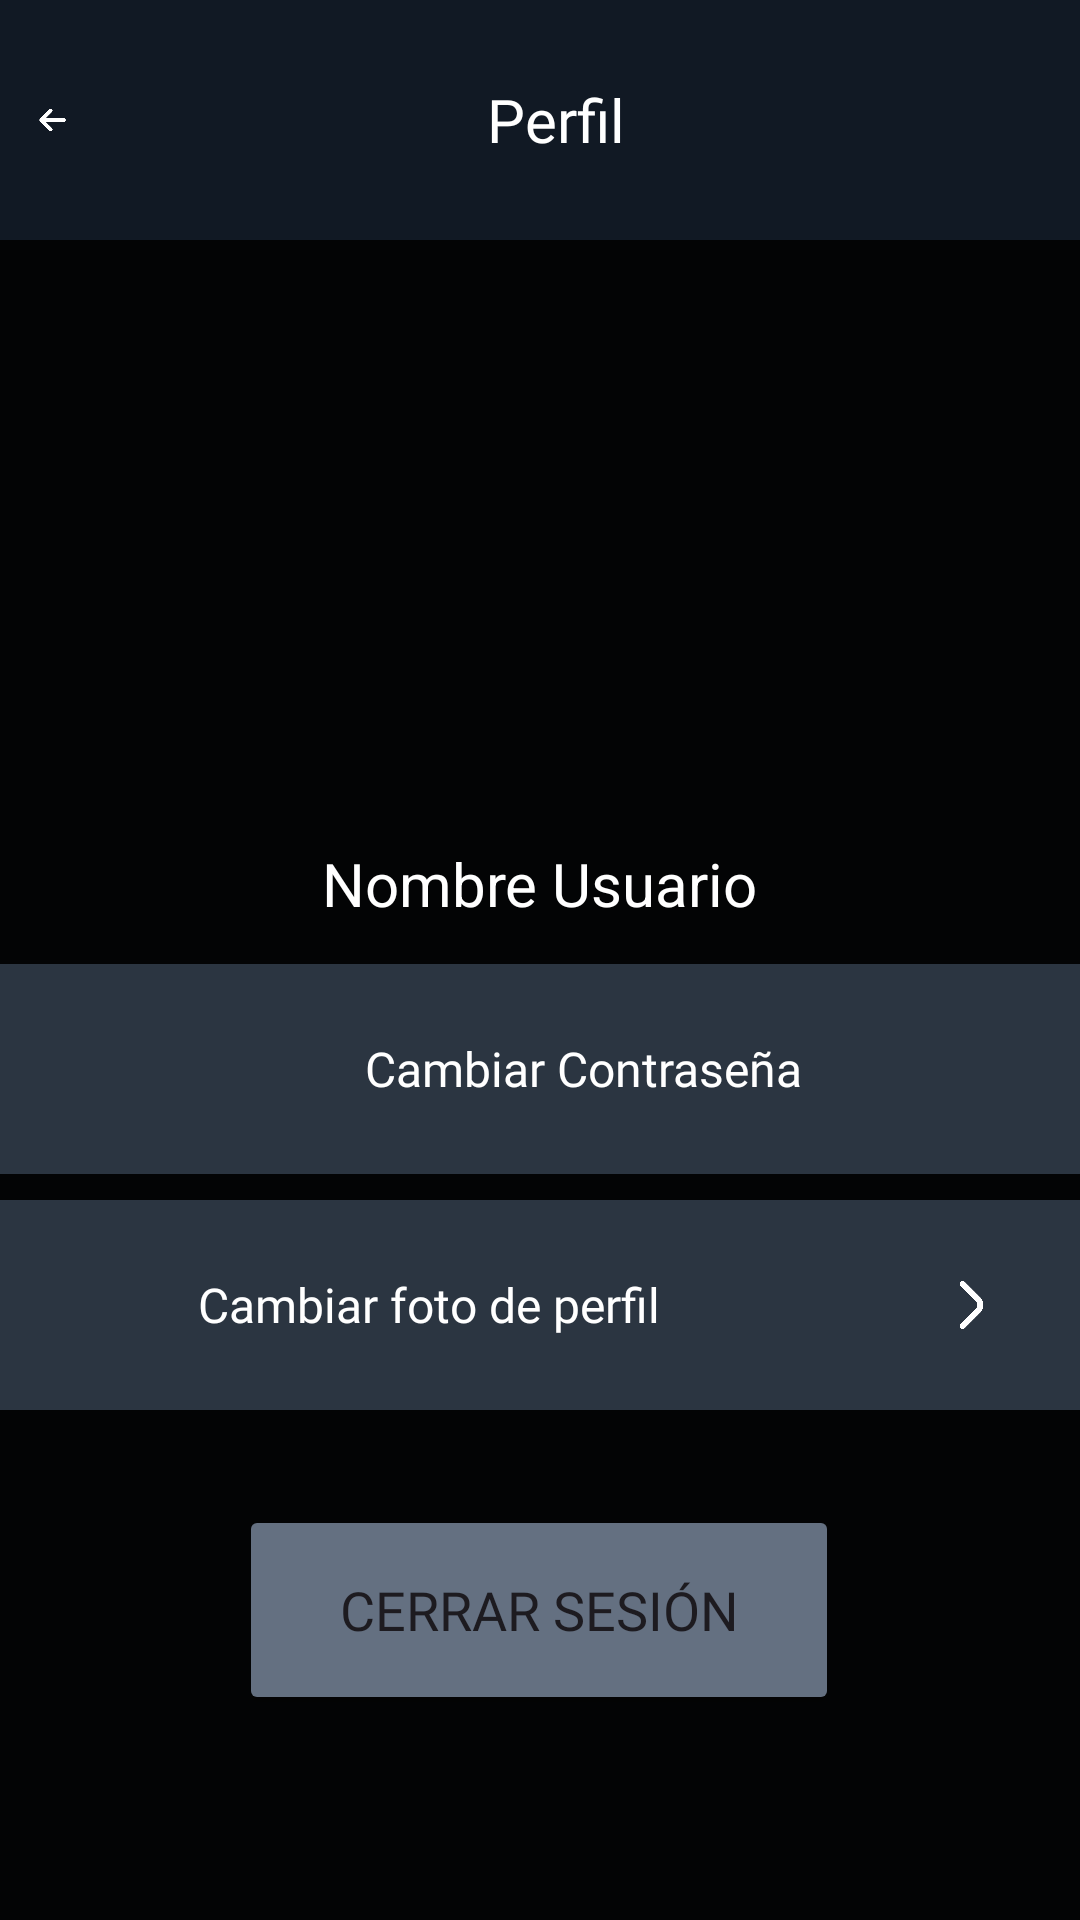

Screen size 1080x1920. Icon name, then its center in pixels as point (x, y):
entrar: point (971, 1305)
flechavolver: point (52, 120)
